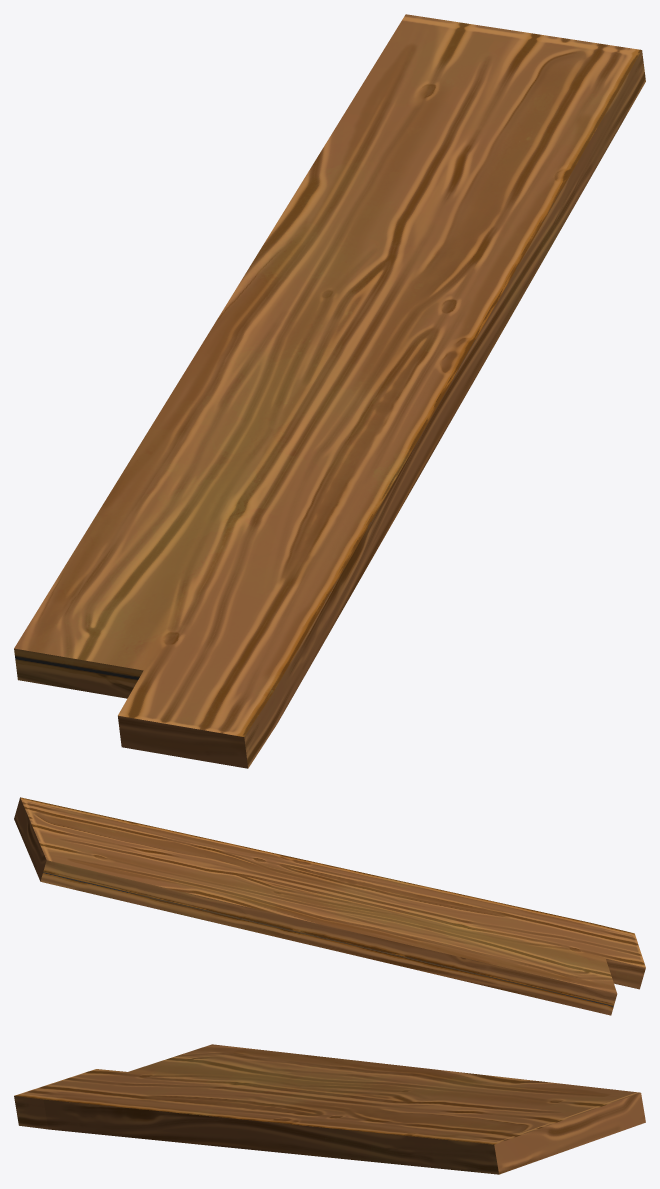
The picture shows the model from 3 angles, top to bottom: view 1: azimuth 30°, elevation 25°; view 2: azimuth 150°, elevation 25°; view 3: azimuth 270°, elevation 25°; orthographic projection. The views are drawn at different scales.
Visible parts, largest first — view 1: Cube.648; view 2: Cube.648; view 3: Cube.648.
Boxes of the visible parts, bbox=[...] form: Cube.648: bbox=[14, 14, 645, 768]; Cube.648: bbox=[14, 797, 645, 1015]; Cube.648: bbox=[14, 1044, 645, 1174].
Bounding box in the file's own units: 307 × 114 × 268.
Materials: 1 (1 with a texture image).
